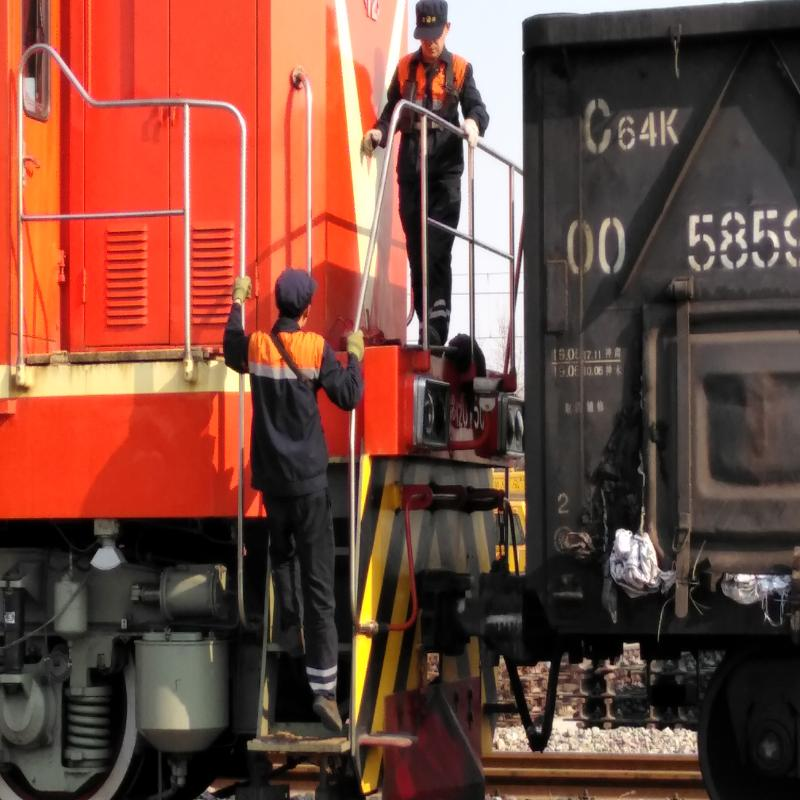train: (520, 25, 800, 767), (4, 1, 214, 779)
